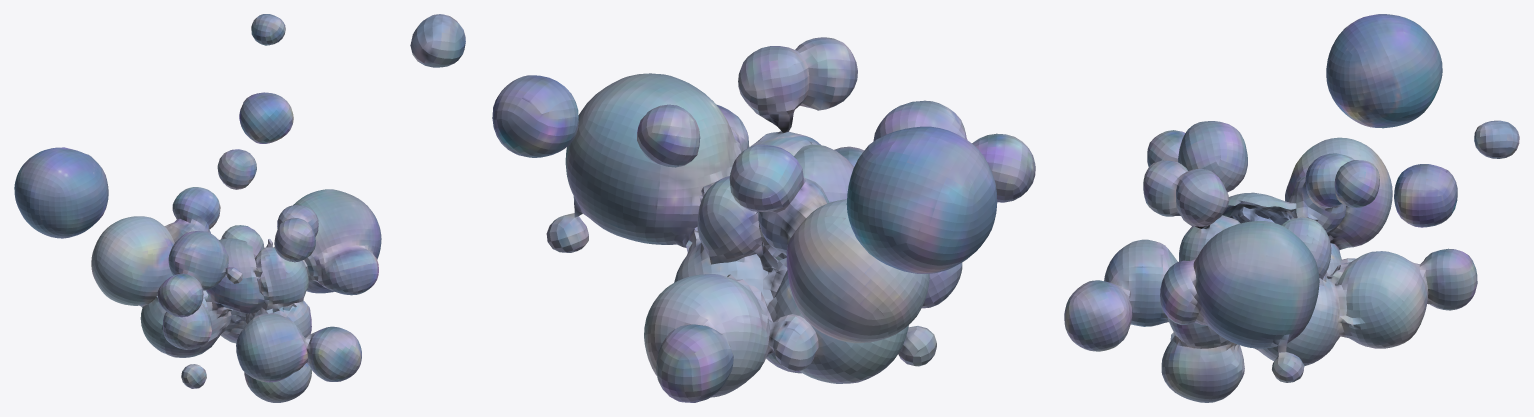
File: bolhas_cluster_3d.obj
3 views of the same model, side by side, from view 1: azimuth 30°, elevation 25°; view 2: azimuth 150°, elevation 25°; view 3: azimuth 270°, elevation 25° (orthographic). The views are drawn at different scales.
Visible parts, largest first — view 1: bolhas; view 2: bolhas; view 3: bolhas.
Part boxes in pixels (x1,y1,x2,y2): bolhas: (14, 14, 381, 402); bolhas: (410, 14, 1035, 402); bolhas: (1064, 14, 1519, 402).
Bounding box in the file's own units: 1.95 × 1.67 × 2.01.
Materials: 1 (1 with a texture image).
